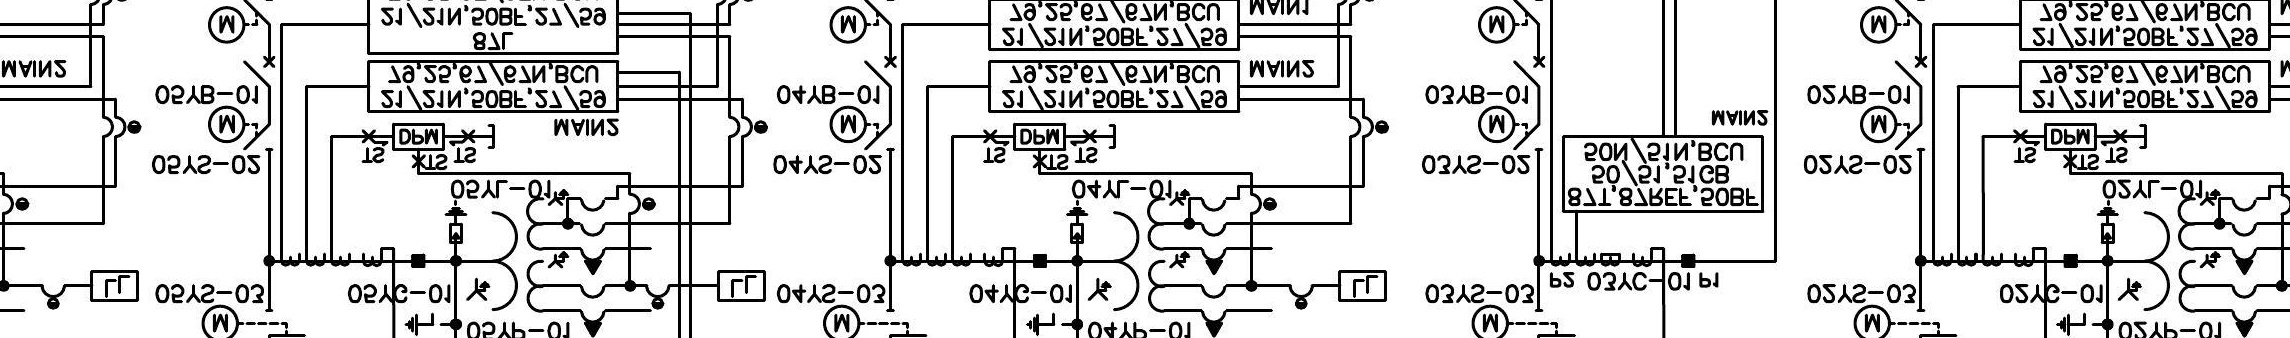115_1way_ds_w_motor: (206, 105, 274, 152), (1858, 105, 1926, 152), (828, 105, 895, 152), (1477, 105, 1544, 151)
115_breaker: (242, 55, 276, 87), (1894, 55, 1928, 87), (1512, 55, 1546, 87), (864, 55, 897, 87)
115_gs: (403, 312, 444, 337), (1024, 312, 1065, 337), (2055, 312, 2096, 337)
115_la: (2095, 199, 2120, 245), (443, 199, 468, 244), (1065, 199, 1089, 244)
DPM: (1012, 122, 1066, 151), (391, 122, 444, 151), (2043, 123, 2096, 151)
LL: (716, 269, 766, 303), (1337, 269, 1387, 303), (90, 270, 140, 303)
